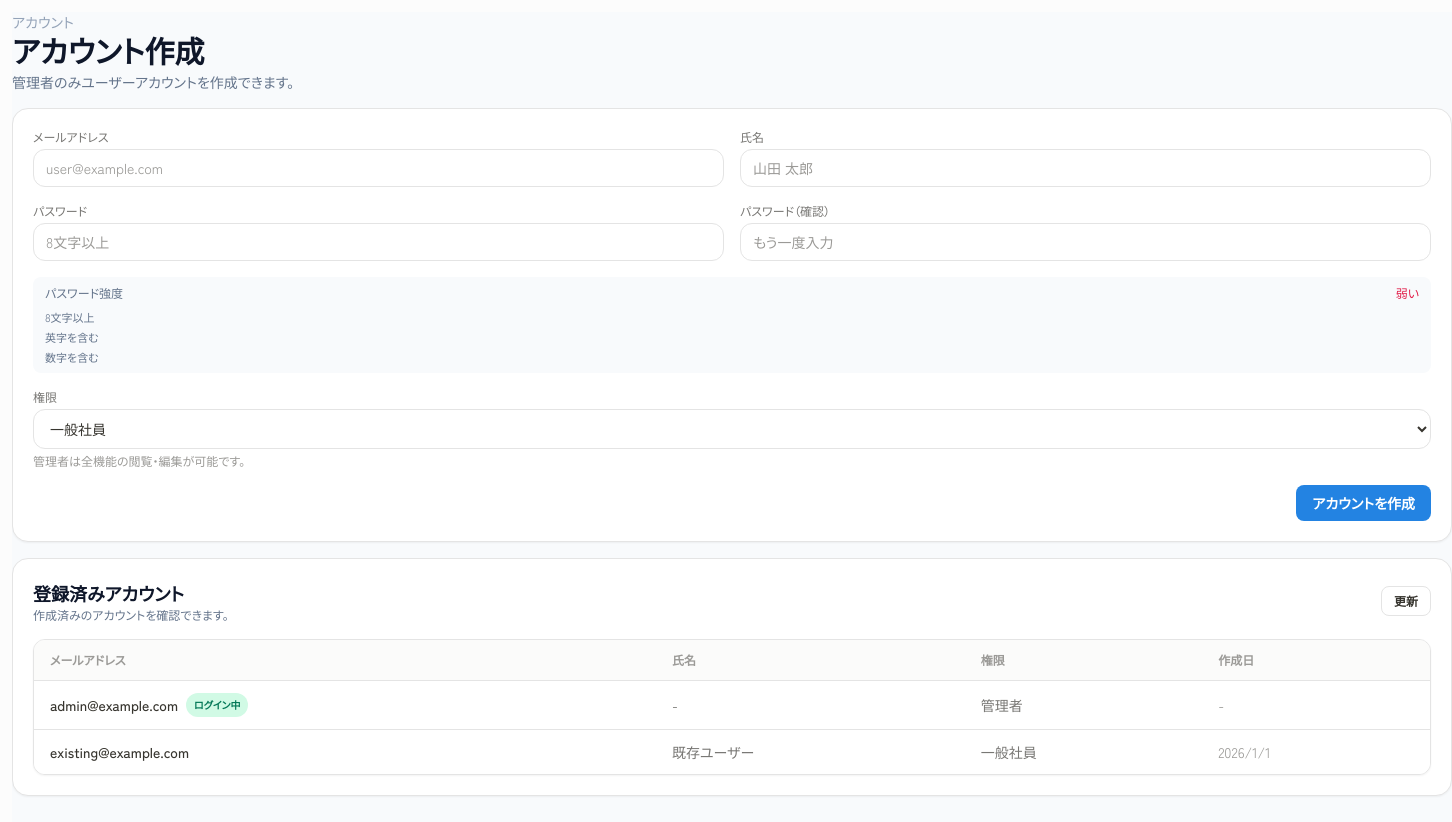
Test: アカウント作成ページ › 必要項目を入力して送信すると新しいアカウントが一覧に表示される
expect the heading "アカウント作成" is shown: met, box x1=12 y1=28 x2=204 y2=72
Step 1. Type "new-user@example.com" into the field labelled "メールアドレス" → (378, 168), box x1=33 y1=149 x2=724 y2=187
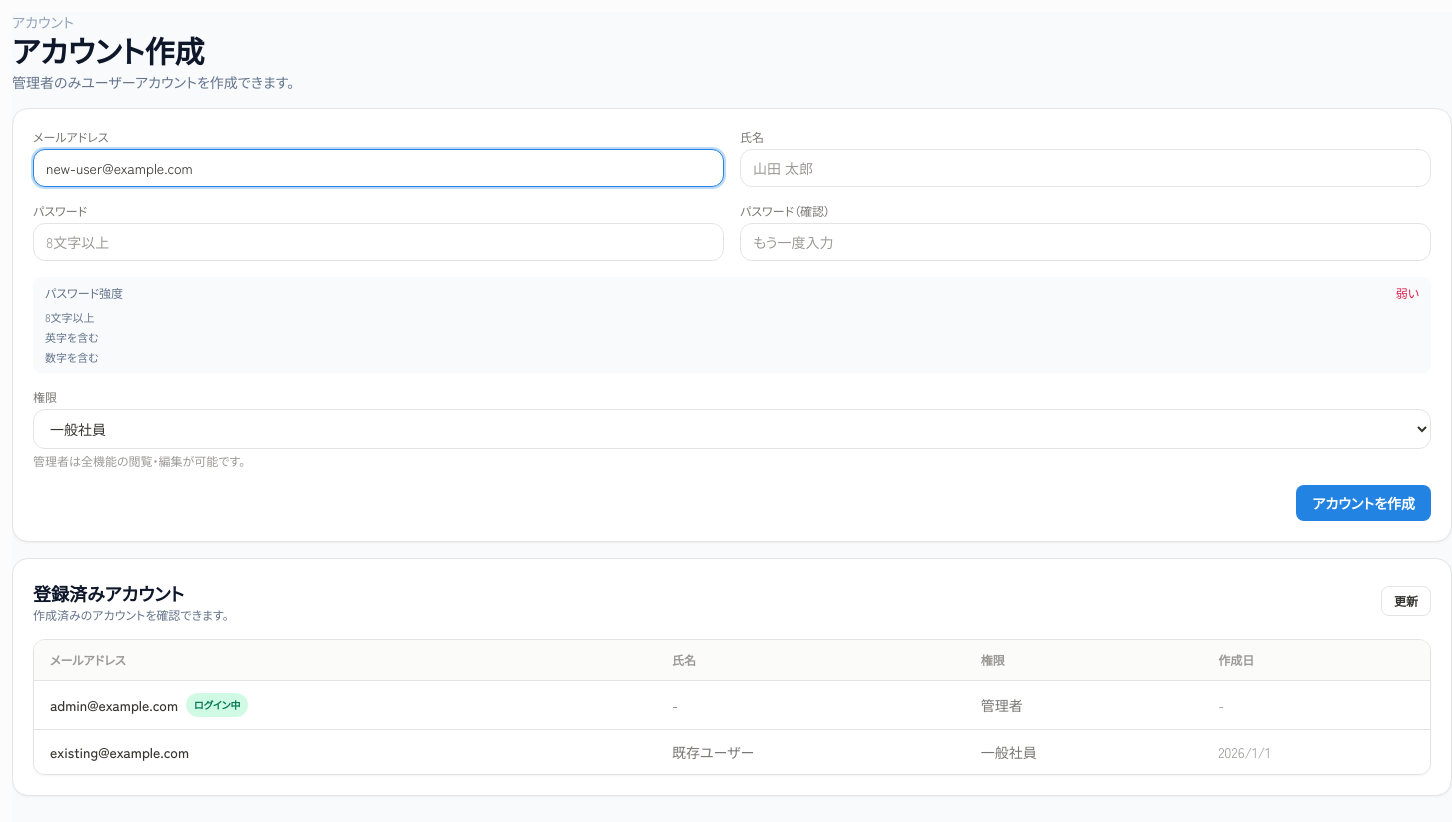
Step 2. Type "新規 ユーザー" into the field labelled "氏名" → (1086, 168), box x1=740 y1=149 x2=1431 y2=187
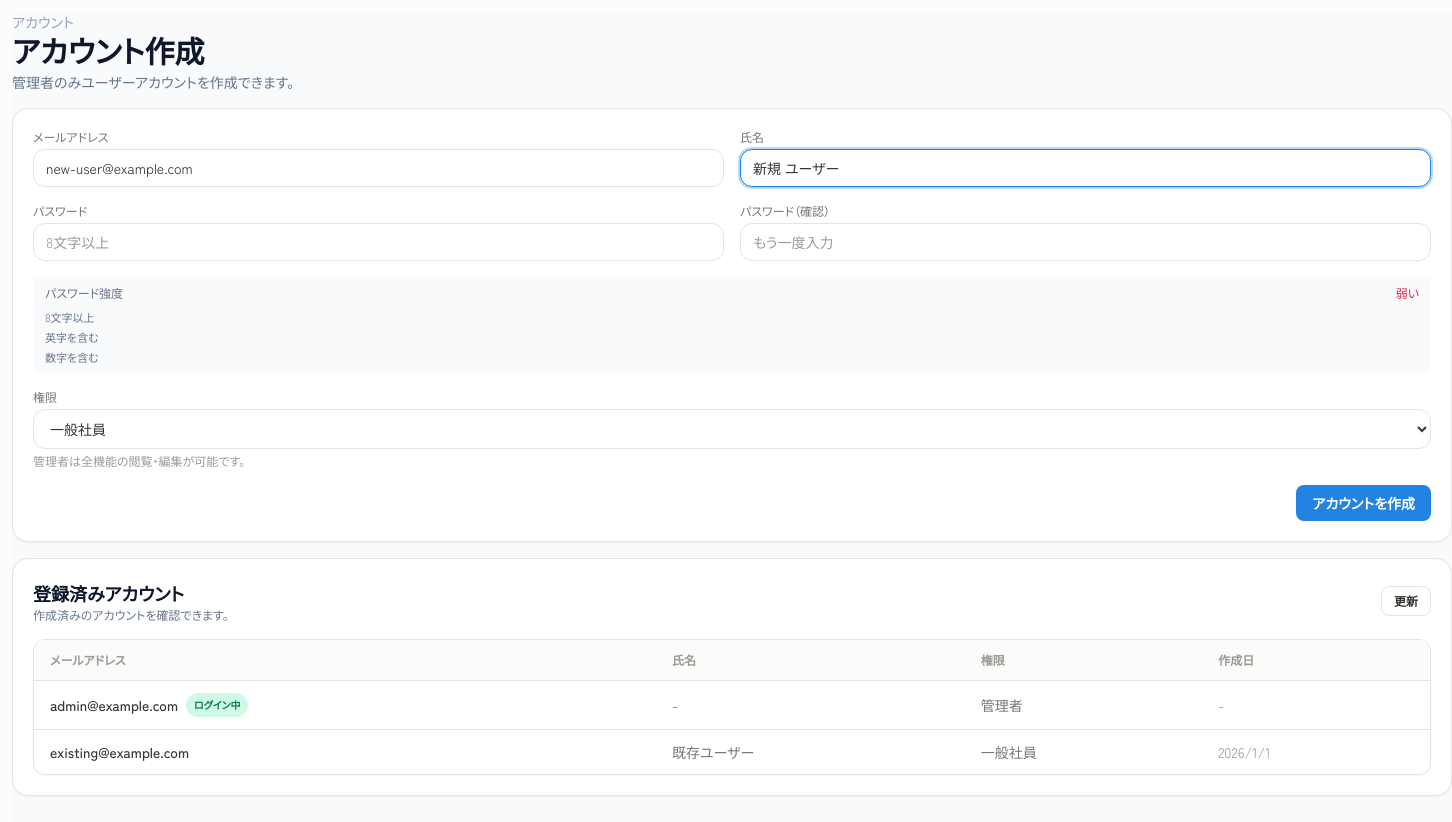
Step 3. Type "Password123" into the password field labelled "パスワード" → (378, 242), box x1=33 y1=223 x2=724 y2=261
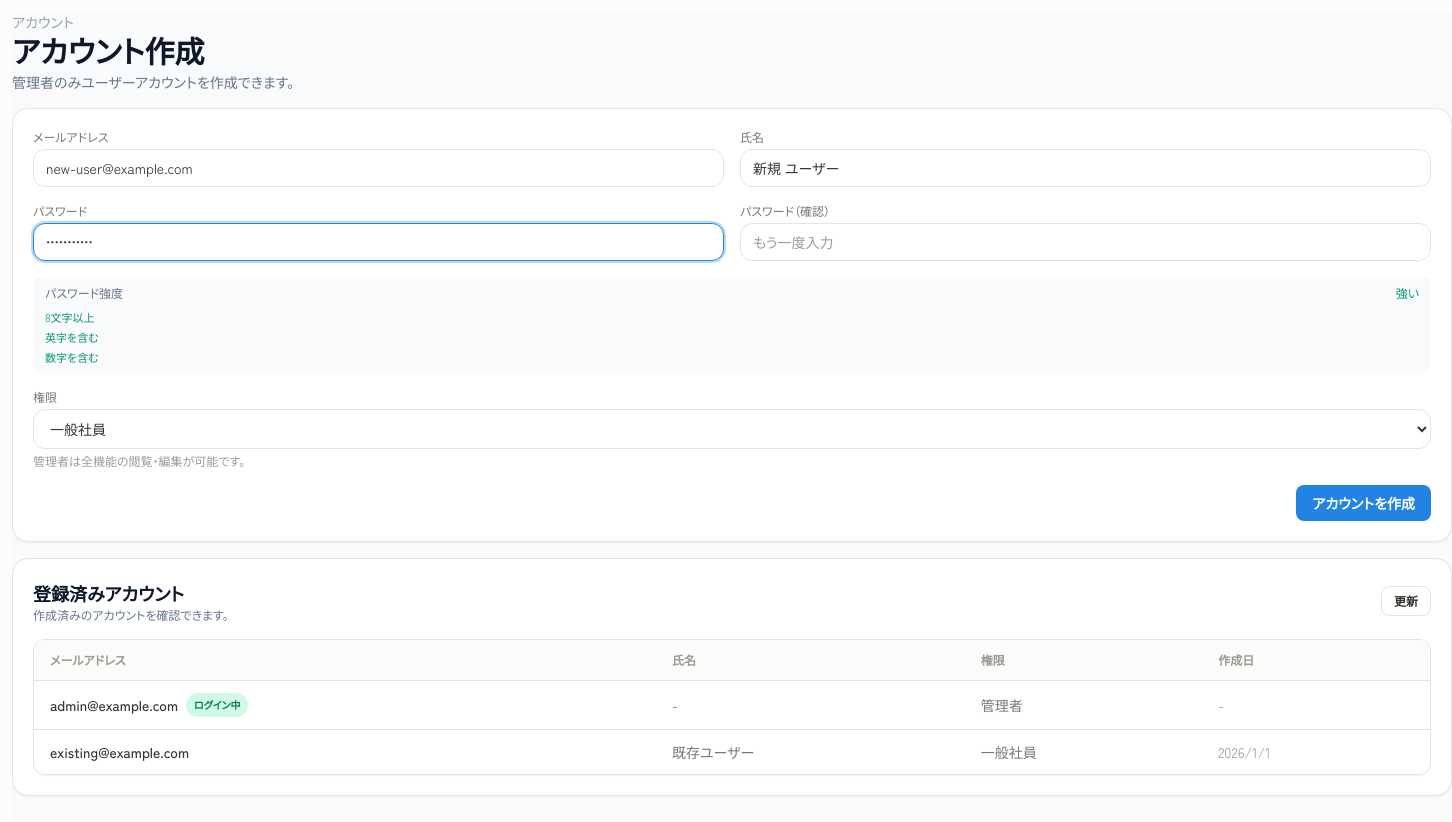
Step 4. Type "Password123" into the password field labelled "パスワード（確認）" → (1086, 242), box x1=740 y1=223 x2=1431 y2=261
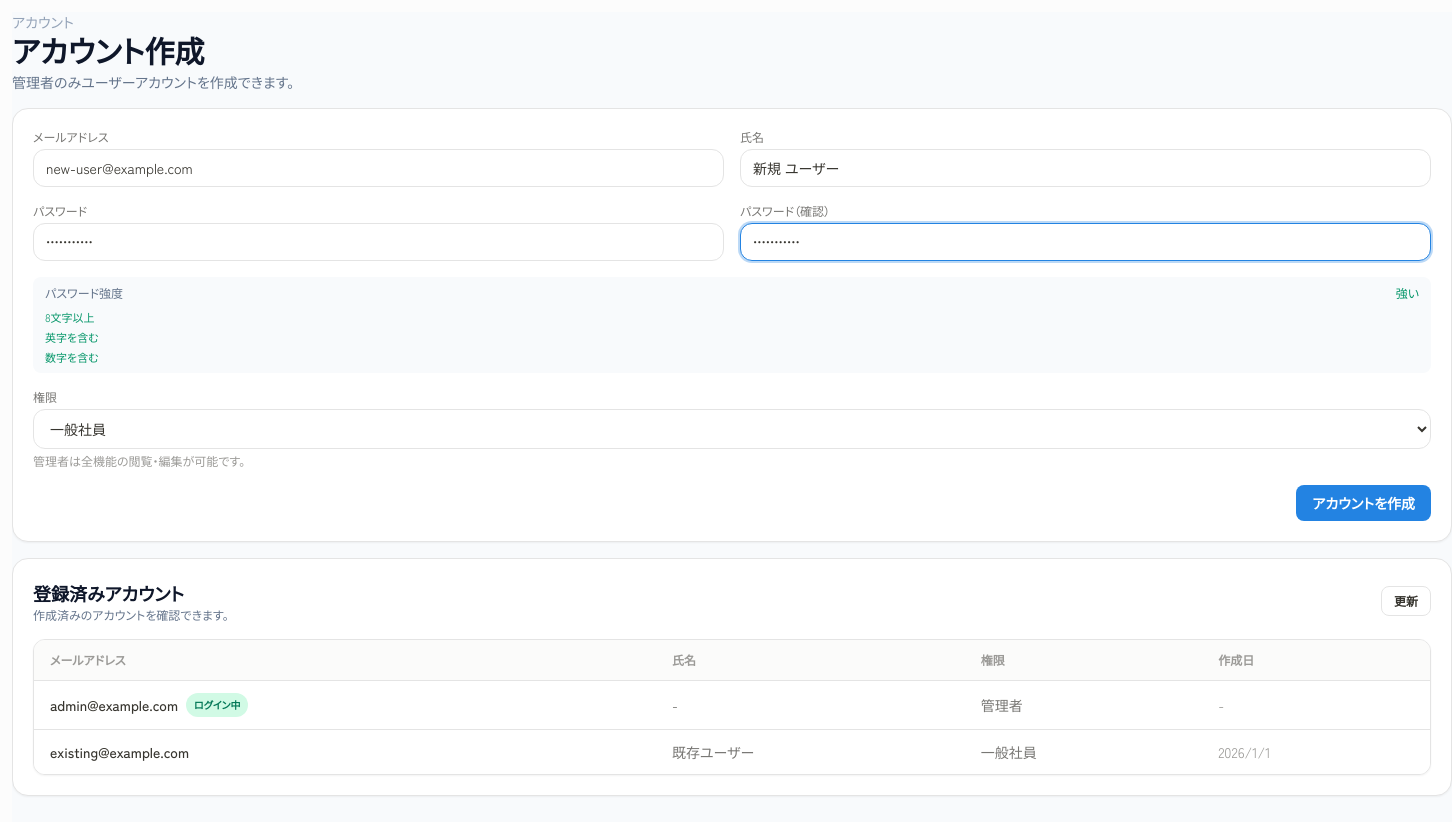
Step 5. Select "一般社員" in the dropdown labelled "権限" → (732, 429), box x1=33 y1=409 x2=1431 y2=449
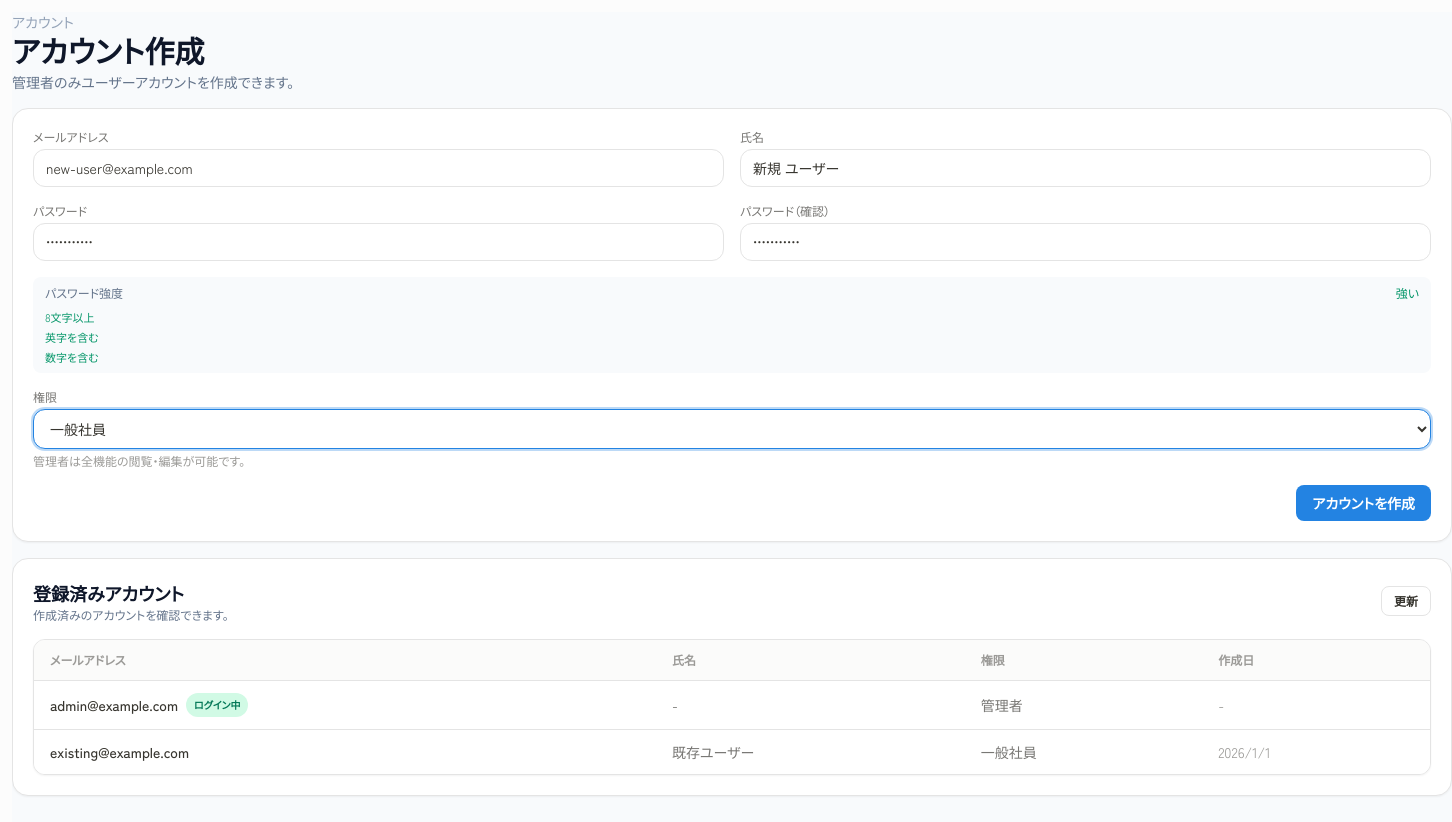
Step 6. Click the button "アカウントを作成" → (1364, 503), box x1=1296 y1=485 x2=1431 y2=521
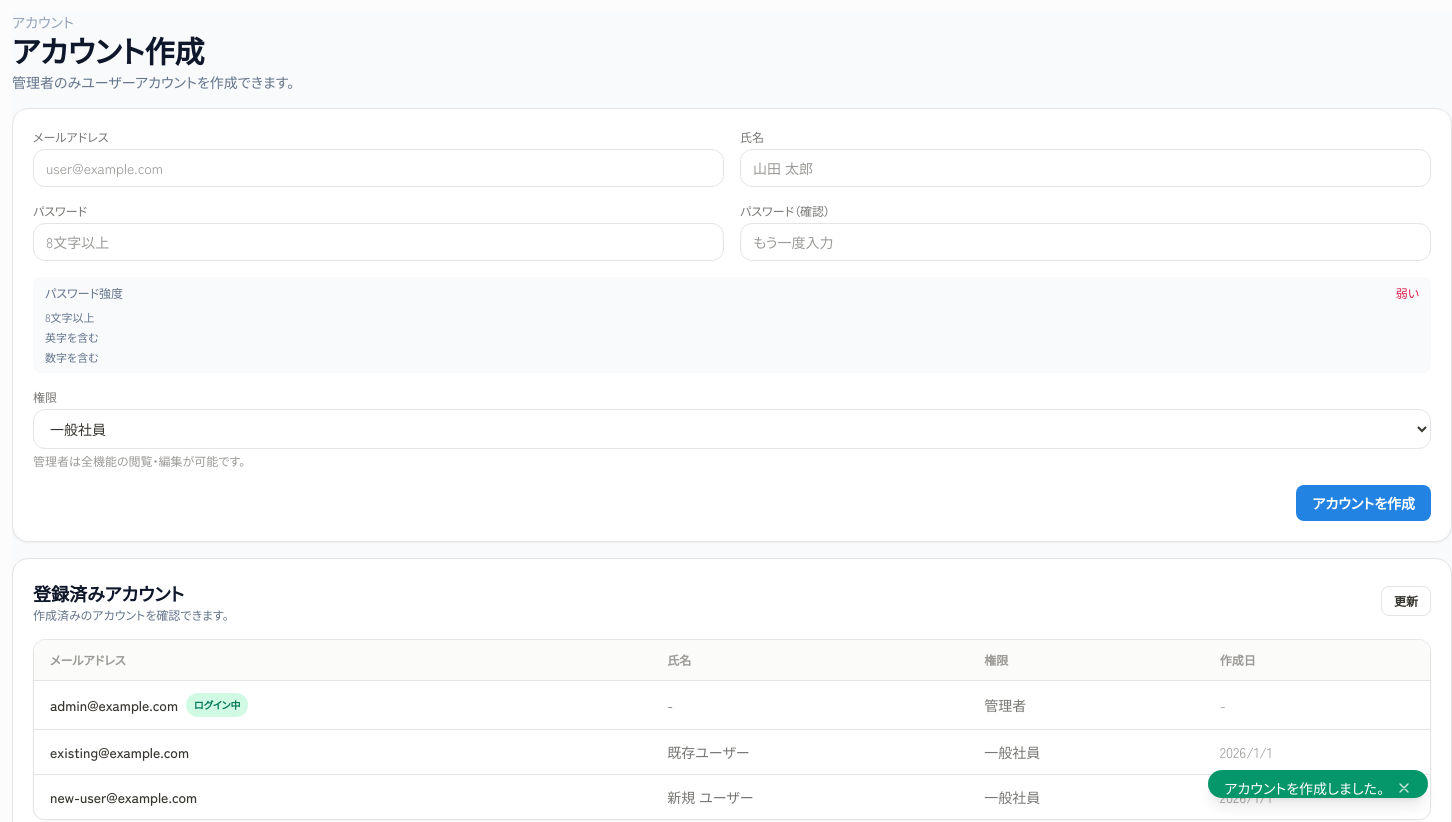
expect the text "アカウントを作成しました。" is shown: met, box x1=1224 y1=778 x2=1384 y2=798
expect the text "new-user@example.com" is shown: met, box x1=50 y1=787 x2=197 y2=807
